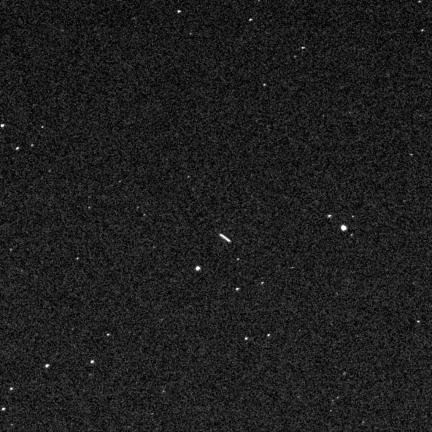blob: (341, 225, 348, 232), (16, 147, 20, 151), (76, 257, 80, 261), (245, 337, 249, 341), (267, 334, 271, 338), (196, 267, 200, 271), (107, 333, 111, 337), (0, 124, 5, 127), (327, 215, 332, 218), (91, 360, 94, 364), (46, 364, 49, 368), (31, 145, 35, 148), (261, 282, 265, 285), (249, 19, 253, 22), (41, 126, 44, 129), (10, 387, 13, 390), (237, 258, 240, 261), (2, 408, 5, 411), (178, 10, 181, 13), (236, 288, 239, 290), (263, 84, 266, 86)
